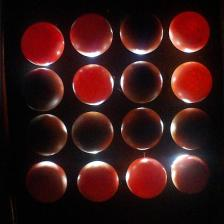fertile: (19, 68, 65, 113), (120, 9, 164, 54), (23, 114, 68, 157), (120, 61, 164, 104), (25, 160, 68, 204), (121, 107, 164, 151), (72, 111, 114, 154), (170, 107, 213, 149), (171, 155, 211, 196)
infertile: (69, 12, 114, 58), (20, 21, 65, 66), (76, 160, 120, 203), (168, 10, 211, 54), (72, 63, 115, 106), (170, 60, 212, 104), (125, 157, 167, 199)
